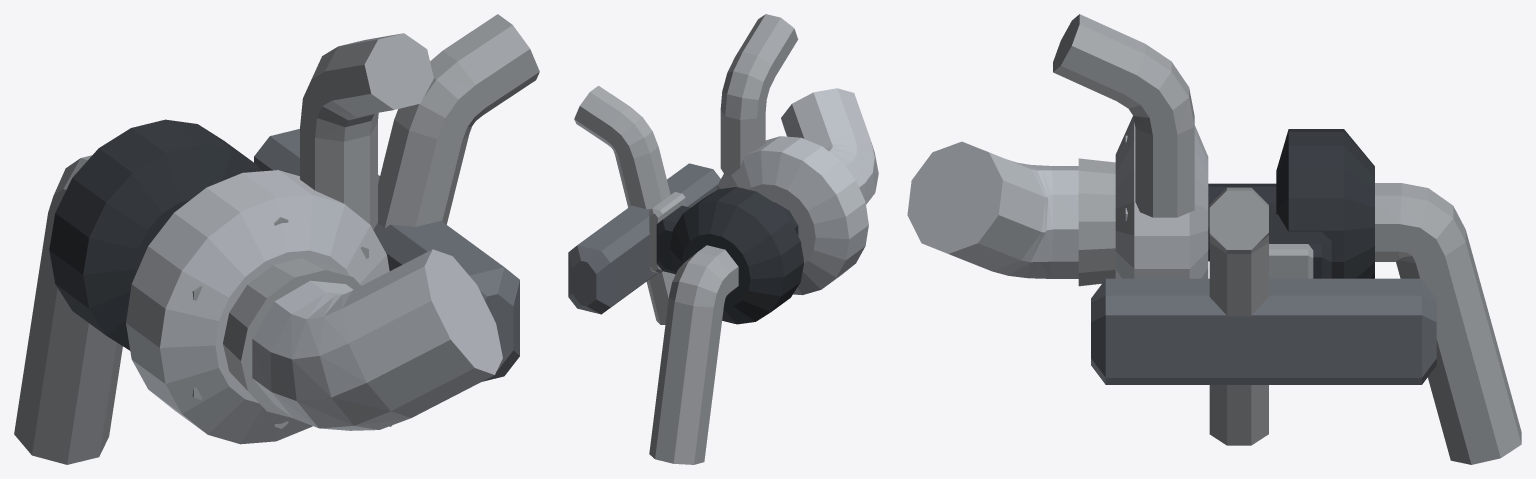
The model's file is vortex_r_big_turbo.glb.
The picture shows the model from 3 angles, left to right: view 1: azimuth 30°, elevation 25°; view 2: azimuth 150°, elevation 25°; view 3: azimuth 270°, elevation 25°; orthographic projection. The views are drawn at different scales.
Visible parts, largest first — view 1: model; view 2: model; view 3: model.
Boxes of the visible parts, <box> form: model: <box>14,14,539,464</box>; model: <box>568,14,878,464</box>; model: <box>907,14,1521,464</box>.
Size of the model in its own units: 0.3317 by 0.4179 by 0.4974.
Materials: 2 (1 with a texture image).
